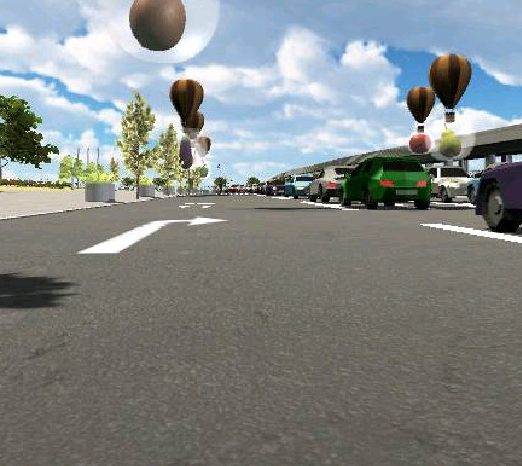ground_right: (126, 213, 229, 227)
